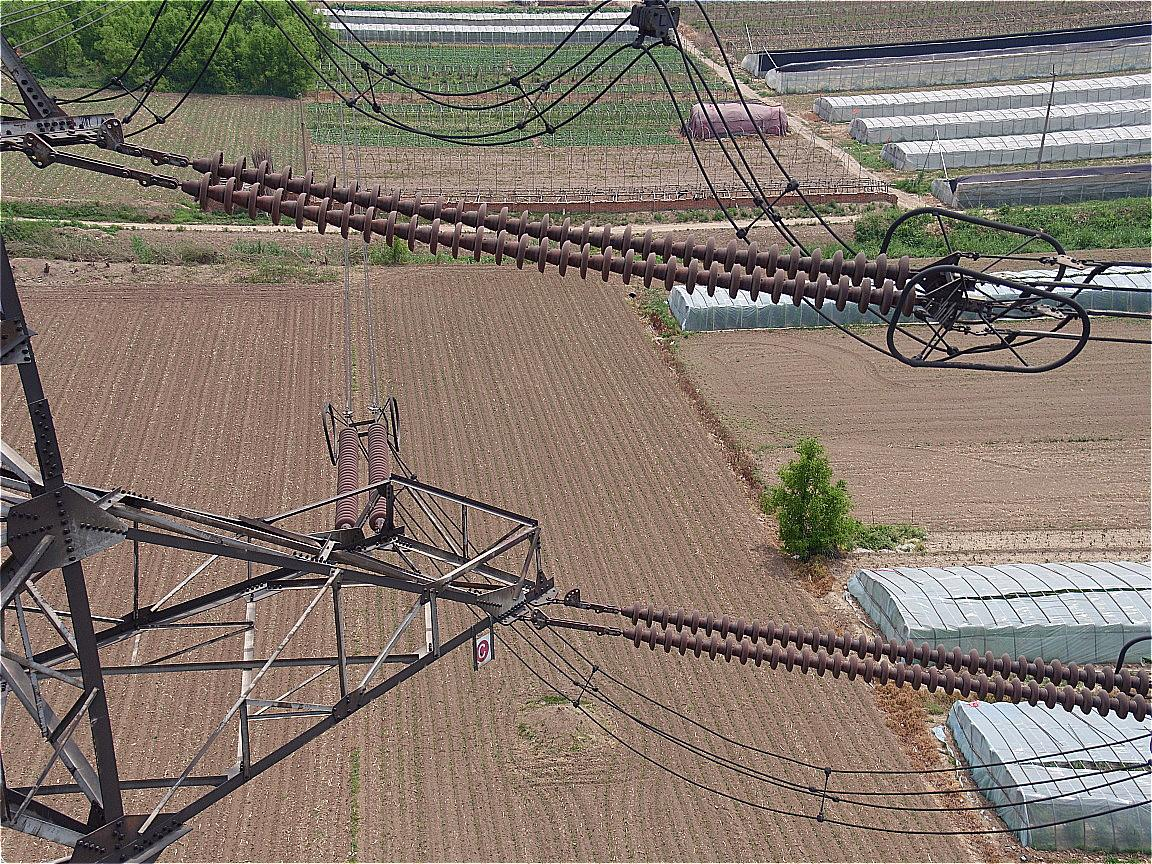insultor1: (198, 150, 919, 314), (630, 597, 1148, 722)
